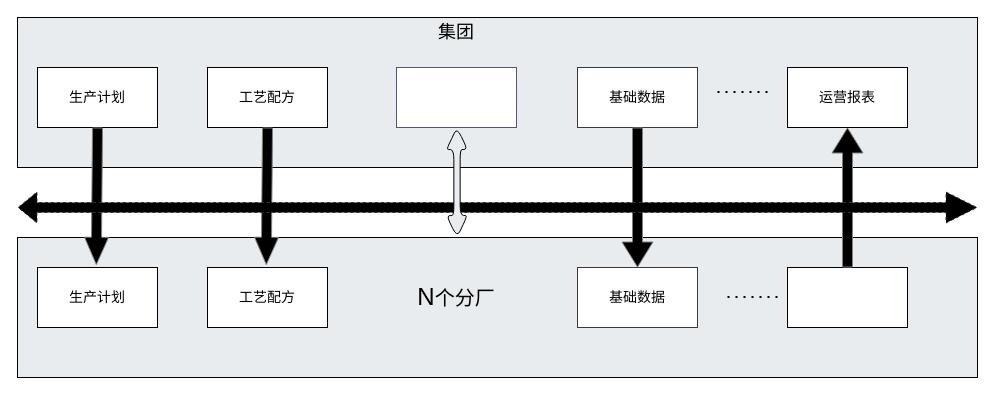
The diagram is 995 pixels wide and 395 high, and some of its shapes have lost their labels. Each missing label, with the centre of its shape:
"生产执行" goes at pixel 847 297.
"统一运维管控平台" goes at pixel 456 97.
